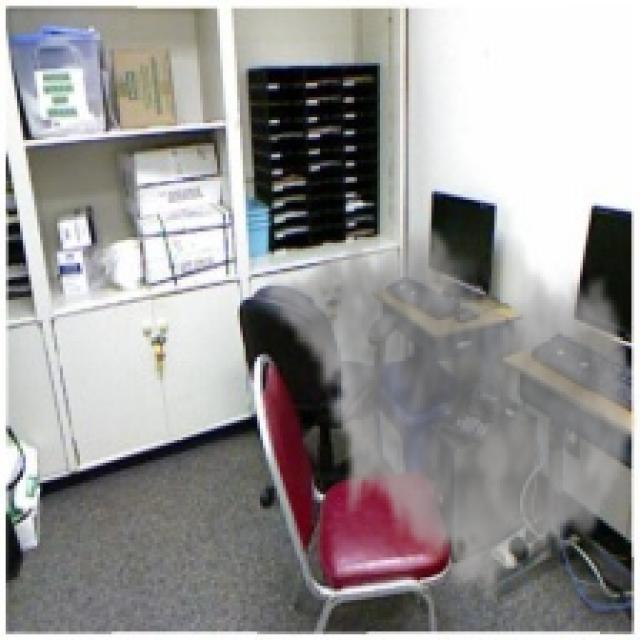smoke: (260, 214, 637, 606)
